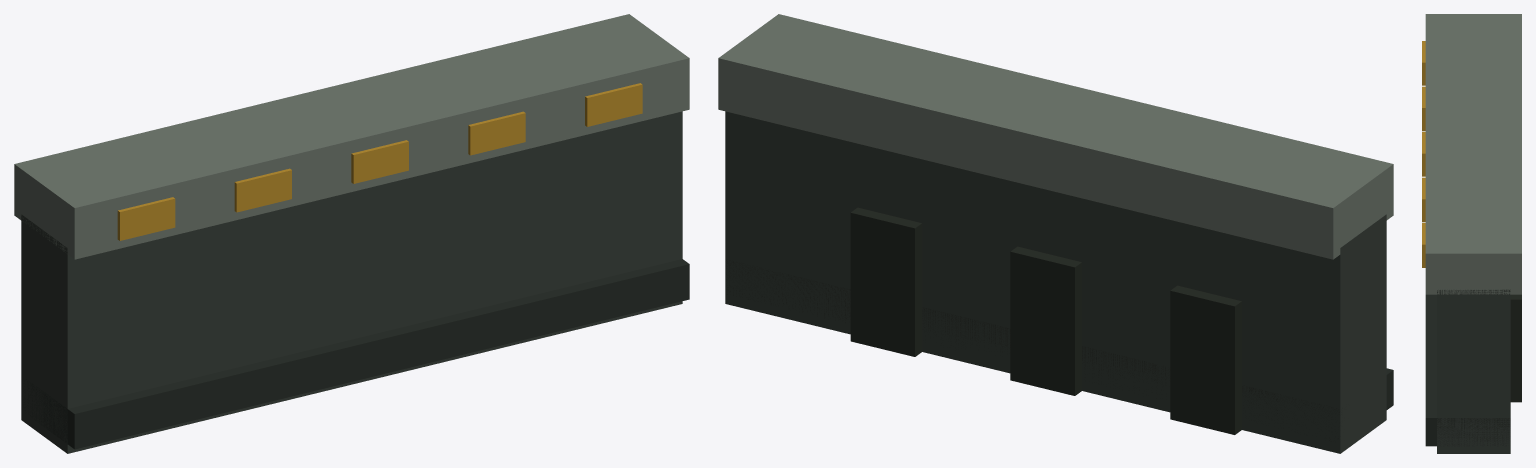
Rendered from CMU3DPlatformEdge.glb.
3 views of the same model, side by side, from view 1: azimuth 30°, elevation 25°; view 2: azimuth 150°, elevation 25°; view 3: azimuth 270°, elevation 25° (orthographic). The views are drawn at different scales.
Parts seen in each view (by area): view 1: edge fascia, edge cap, lower foot strip, hazard marker (×5); view 2: edge fascia, edge cap, support tooth (×3), lower foot strip; view 3: edge cap, edge fascia, lower foot strip, support tooth, hazard marker (×5).
Part boxes in pixels (x1,y1,x2,y2): edge fascia: (21, 111, 682, 453); edge cap: (14, 14, 689, 259); lower foot strip: (24, 259, 689, 449); hazard marker (×5): (117, 83, 642, 240); edge fascia: (725, 111, 1386, 453); edge cap: (718, 14, 1393, 259); support tooth (×3): (850, 207, 1241, 434); lower foot strip: (725, 260, 1393, 441); edge cap: (1425, 14, 1521, 294); edge fascia: (1437, 289, 1510, 453); lower foot strip: (1425, 294, 1510, 446); support tooth: (1510, 294, 1521, 402); hazard marker (×5): (1422, 41, 1425, 267).
Size of the model in its own units: 1 by 0.39 by 0.176.
